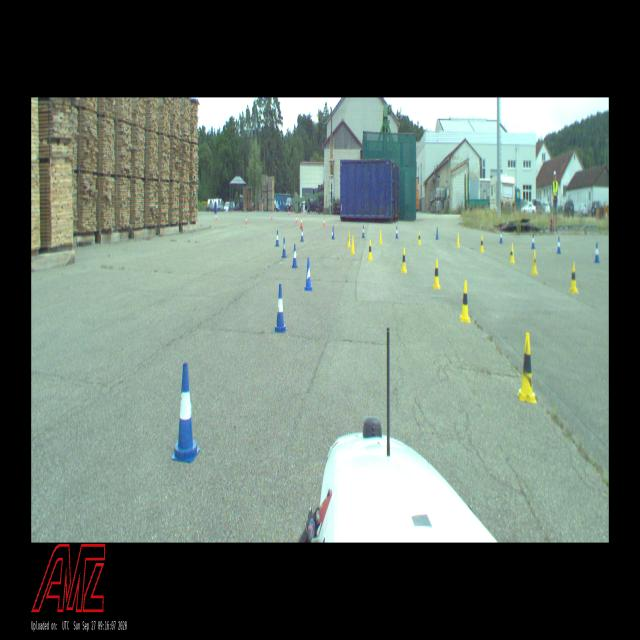blue_cone: (172, 363, 200, 463), (274, 284, 287, 332), (304, 258, 312, 290), (292, 243, 298, 268), (594, 242, 600, 262), (281, 236, 287, 256), (274, 230, 280, 246), (556, 237, 561, 253), (531, 232, 535, 249), (331, 226, 335, 240), (300, 228, 304, 242), (499, 230, 503, 242), (436, 226, 438, 240), (362, 225, 364, 238), (396, 226, 398, 238)
orange_cone: (300, 216, 303, 228), (323, 218, 325, 227), (215, 212, 217, 221), (245, 216, 247, 224), (296, 215, 298, 223), (271, 212, 273, 220), (288, 210, 290, 216), (304, 212, 304, 217)
yellow_cone: (518, 333, 536, 404), (460, 280, 470, 323), (569, 261, 578, 293), (432, 258, 440, 288), (531, 251, 538, 274), (401, 248, 407, 272), (368, 240, 372, 260), (510, 243, 514, 263), (346, 231, 351, 247), (351, 236, 355, 254), (480, 235, 484, 252), (456, 233, 460, 248), (378, 230, 382, 244), (418, 230, 421, 245)
